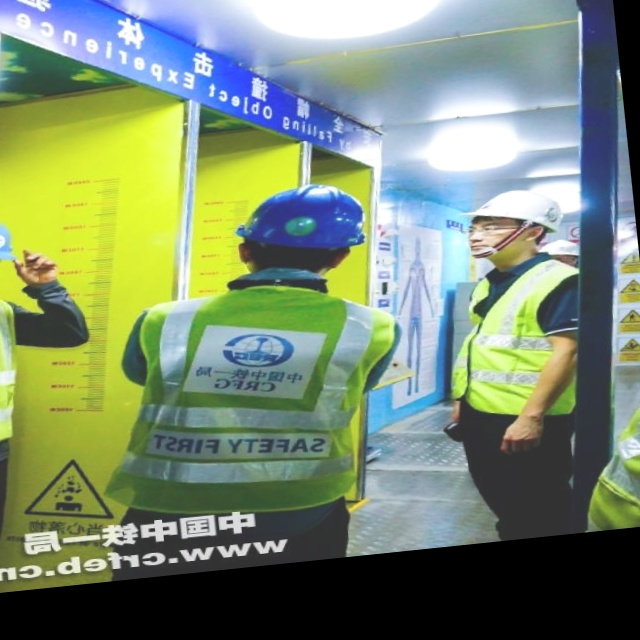Con_Chaleco: (107, 279, 410, 526), (434, 257, 598, 444)
